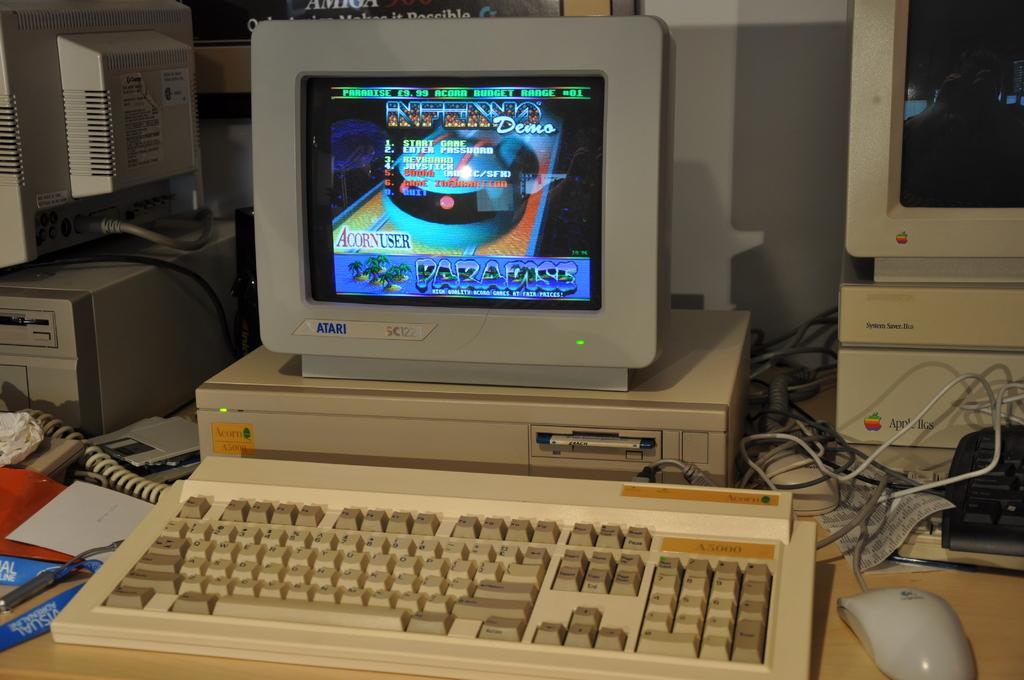Computer-mouse: (842, 584, 973, 679)
